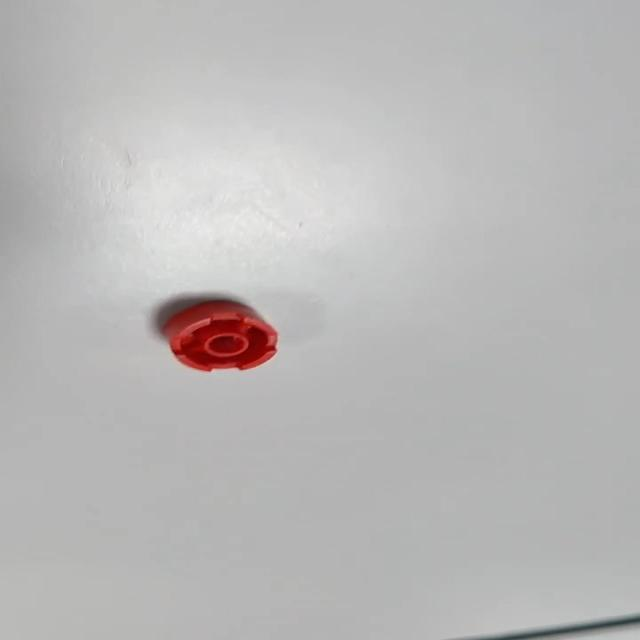S2x2x1: (162, 299, 281, 372)
